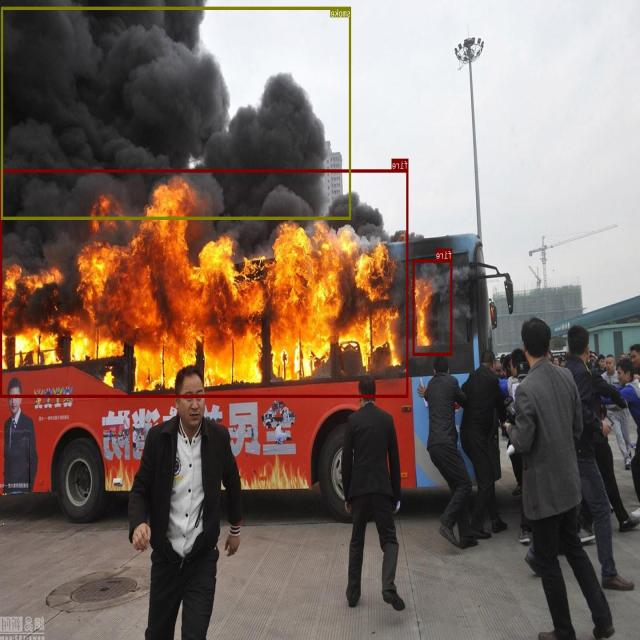fire: (1, 169, 409, 397), (413, 259, 452, 355)
smoke: (2, 6, 351, 219)
